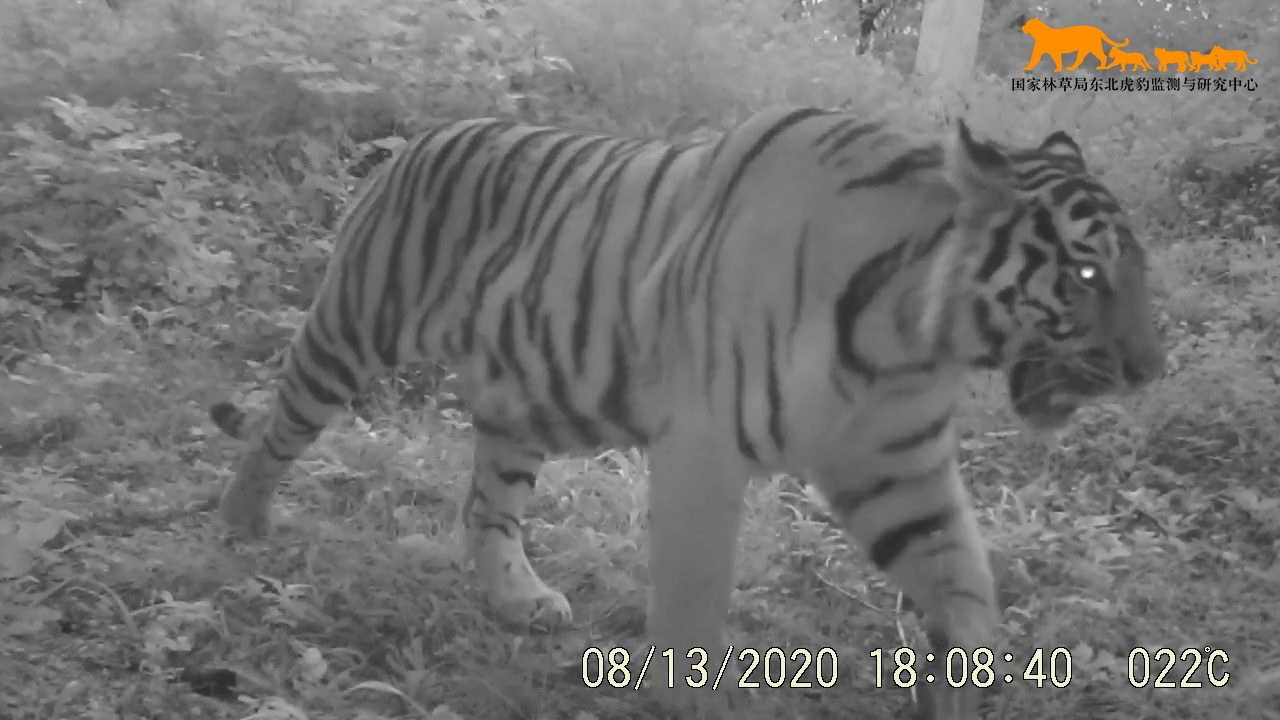Tiger: (125, 98, 1235, 627)
